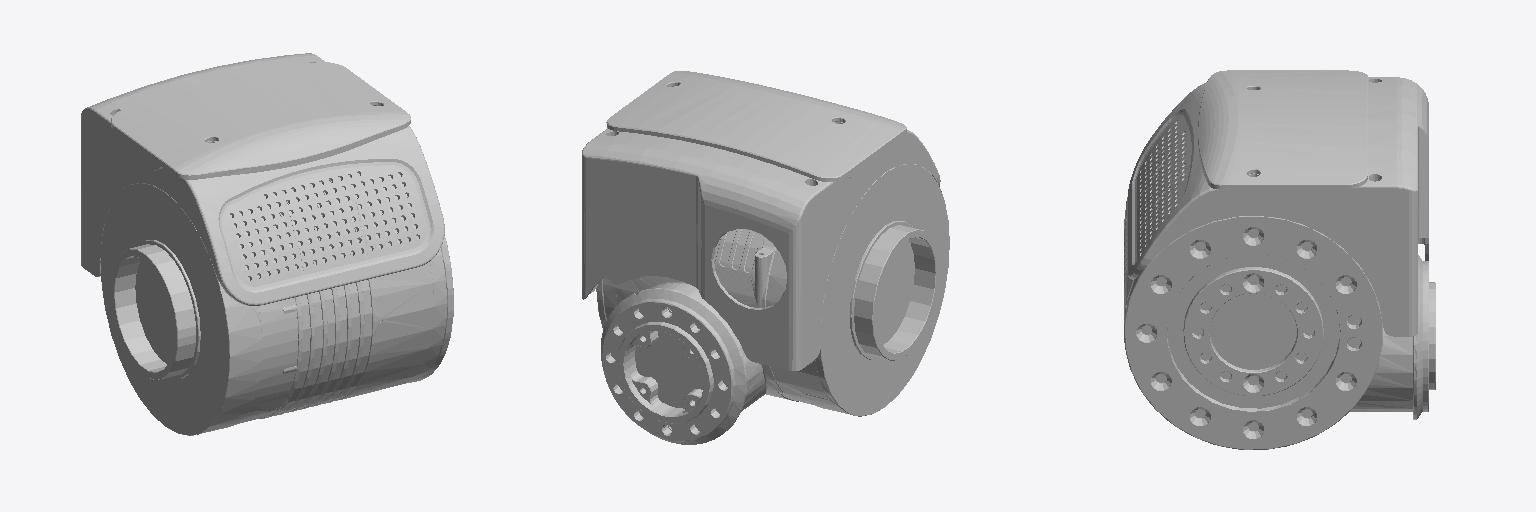
3 views of the same model, side by side, from view 1: azimuth 30°, elevation 25°; view 2: azimuth 150°, elevation 25°; view 3: azimuth 270°, elevation 25° (orthographic).
Parts seen in each view (by area): view 1: leg_l2_link; view 2: leg_l2_link; view 3: leg_l2_link.
Boxes of the visible parts, x1,y1,x2,y2 form: leg_l2_link: [81, 53, 453, 435]; leg_l2_link: [582, 71, 949, 444]; leg_l2_link: [1124, 70, 1435, 449].
Bounding box in the file's own units: 0.107 × 0.117 × 0.1155.